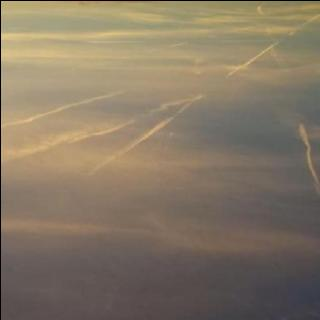Contrails: (0, 68, 210, 194), (211, 0, 320, 89), (278, 121, 320, 204)
